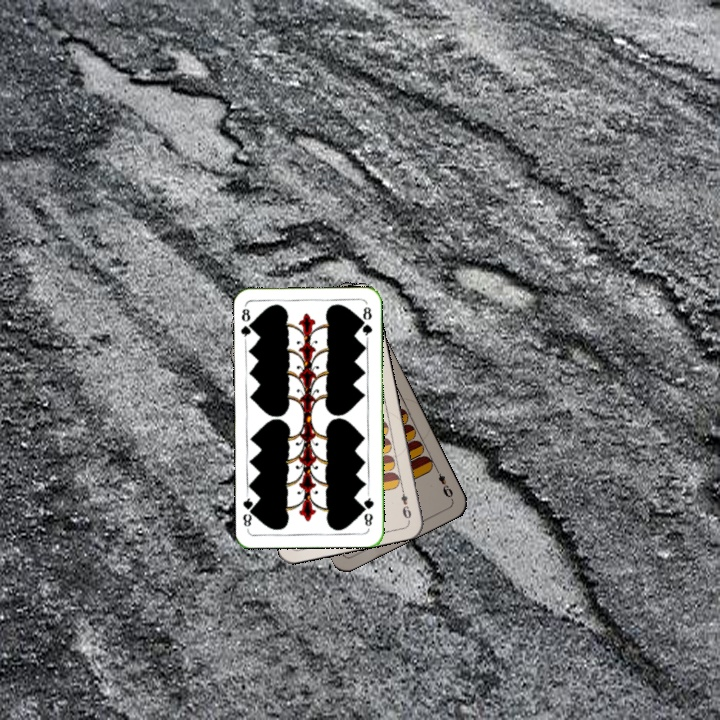E9: (432, 464, 455, 502), (397, 483, 414, 521)
G8: (237, 303, 257, 343), (359, 490, 376, 529)
